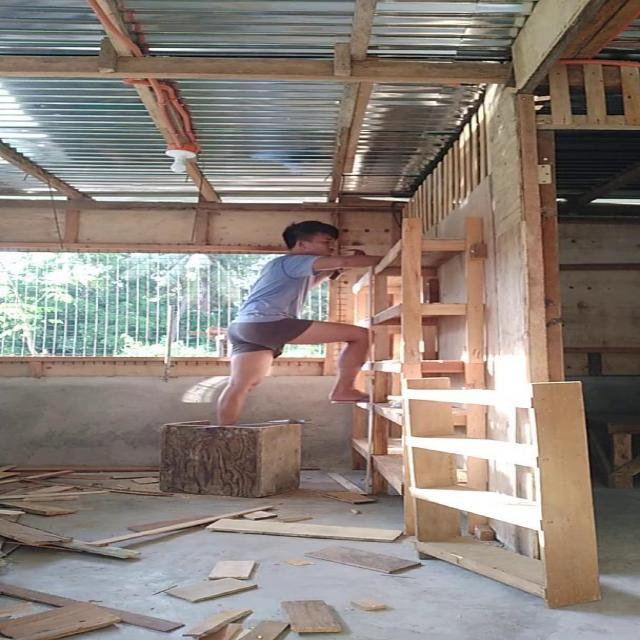hammer: (327, 248, 371, 280)
